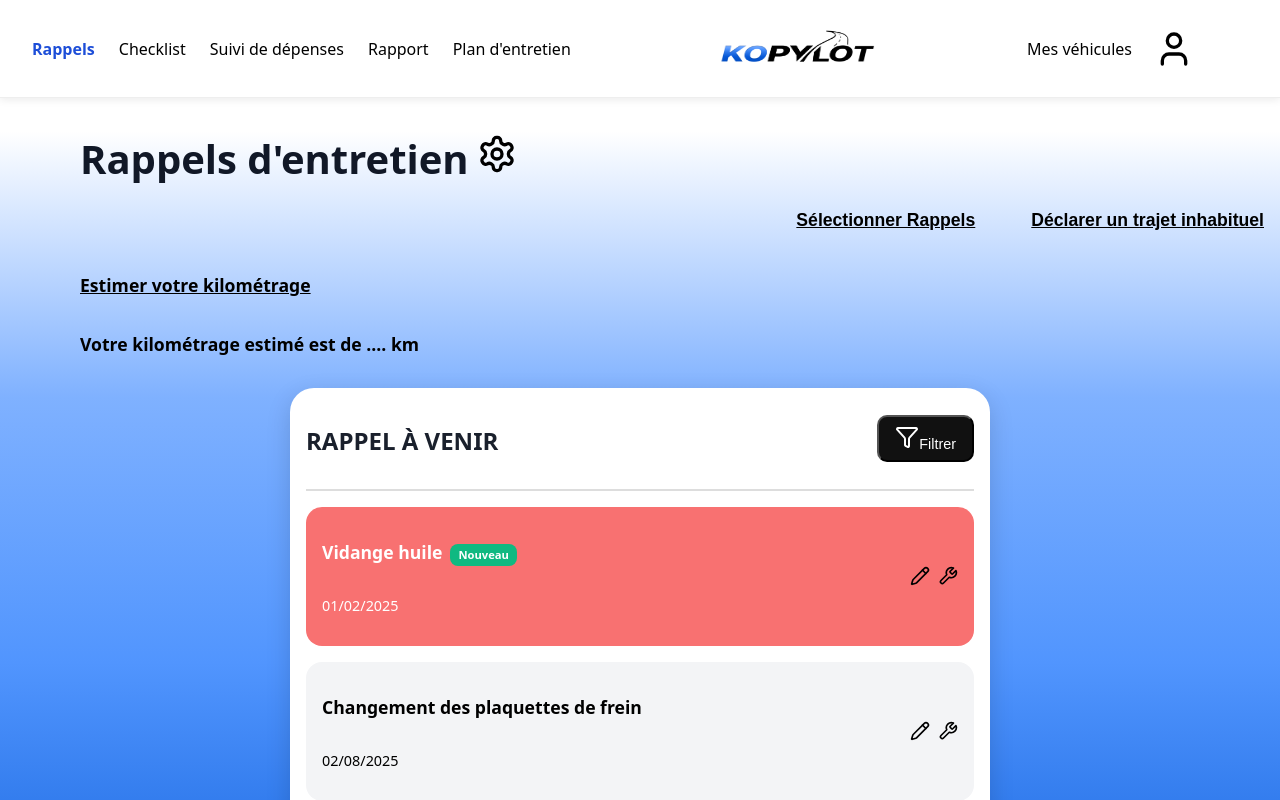
Test: RappelsPage - Couverture complète › marque un rappel comme effectué
Click the 5th icon at (948, 576), box [938,566,958,586]
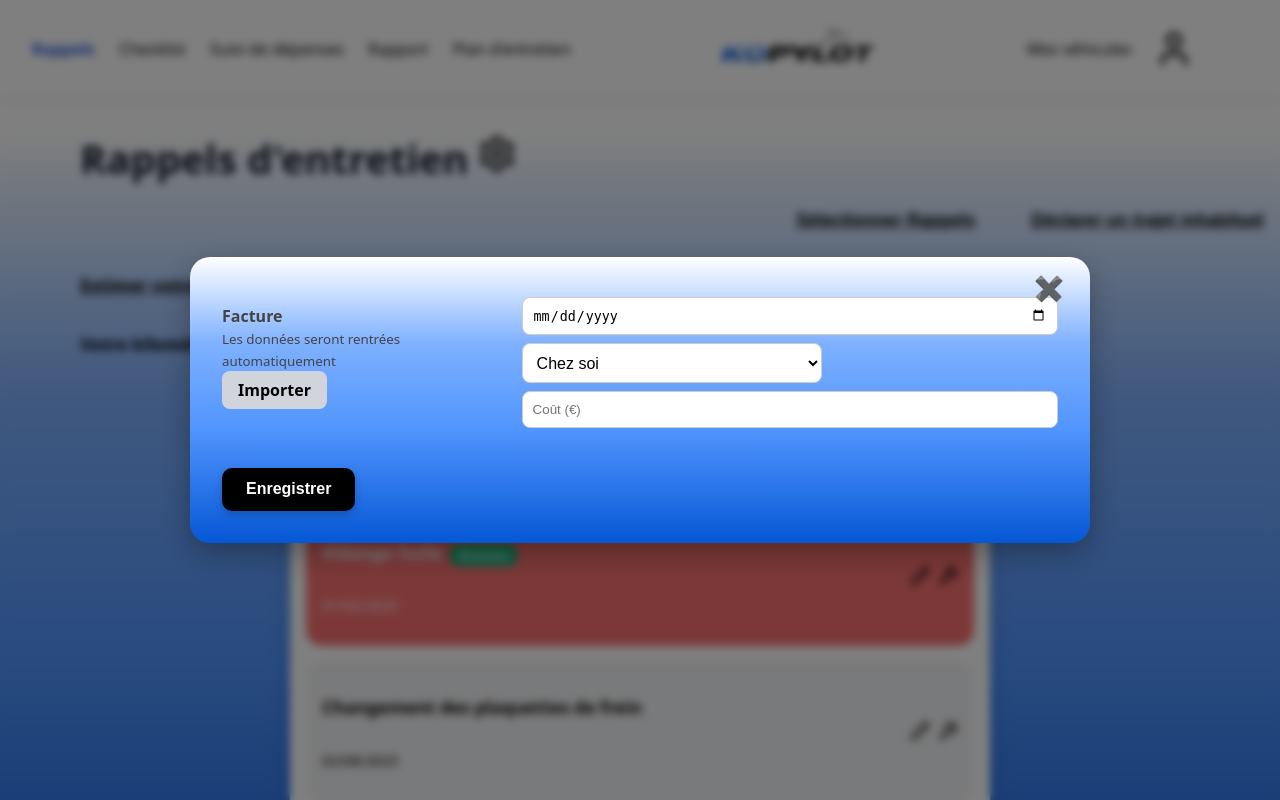
Type "2025-11-01" into the date field with placeholder "Date du dernier entretien" at (790, 317), box [522,297,1058,336]
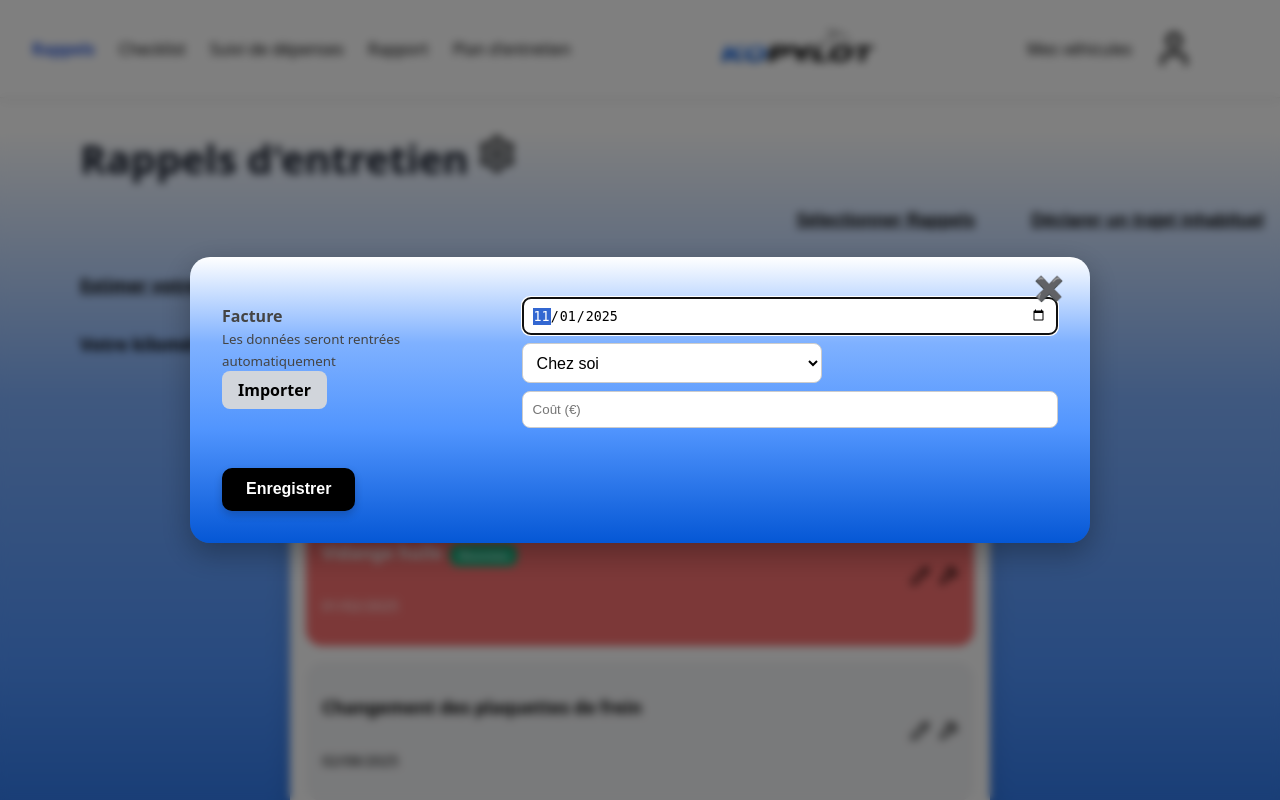
Select "Garage" in the dropdown at (672, 363), box [522,343,822,383]
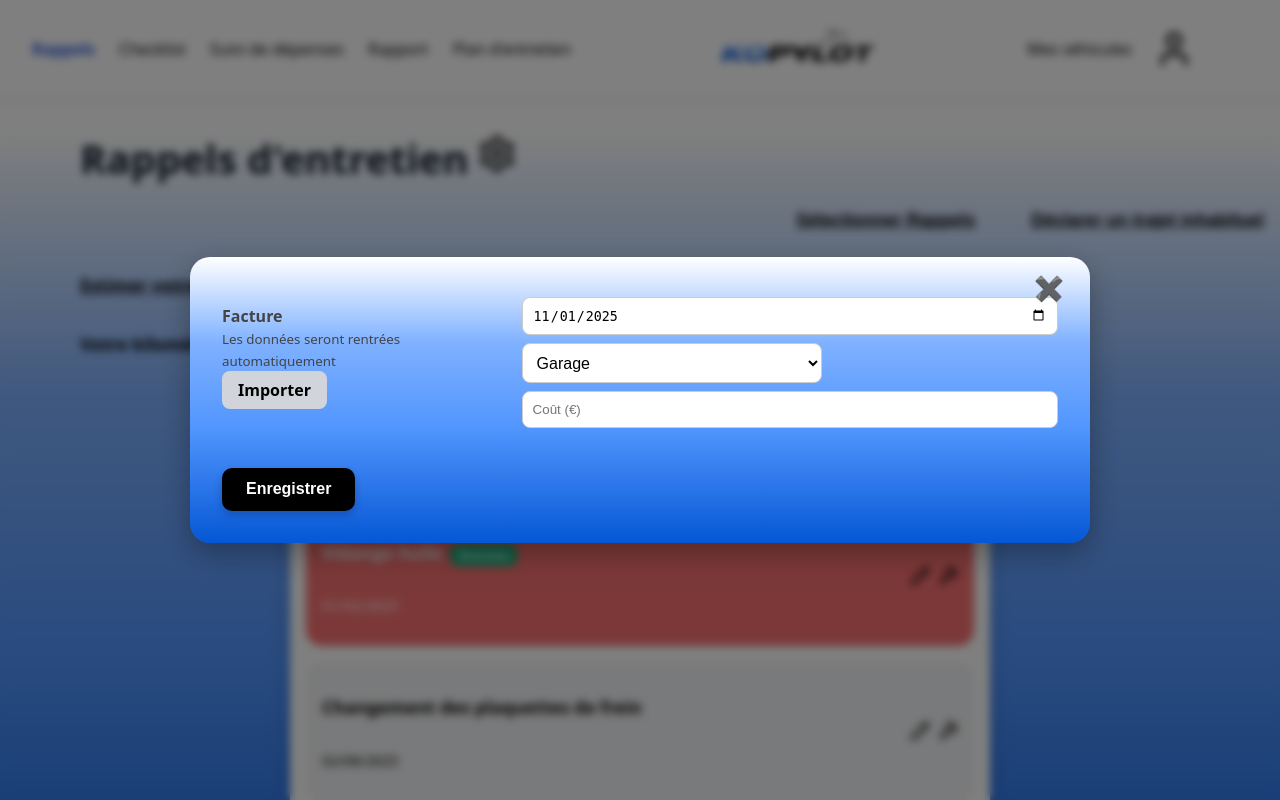
Type "90" into the field with placeholder "Coût (€)" at (790, 410), box [522,392,1058,428]
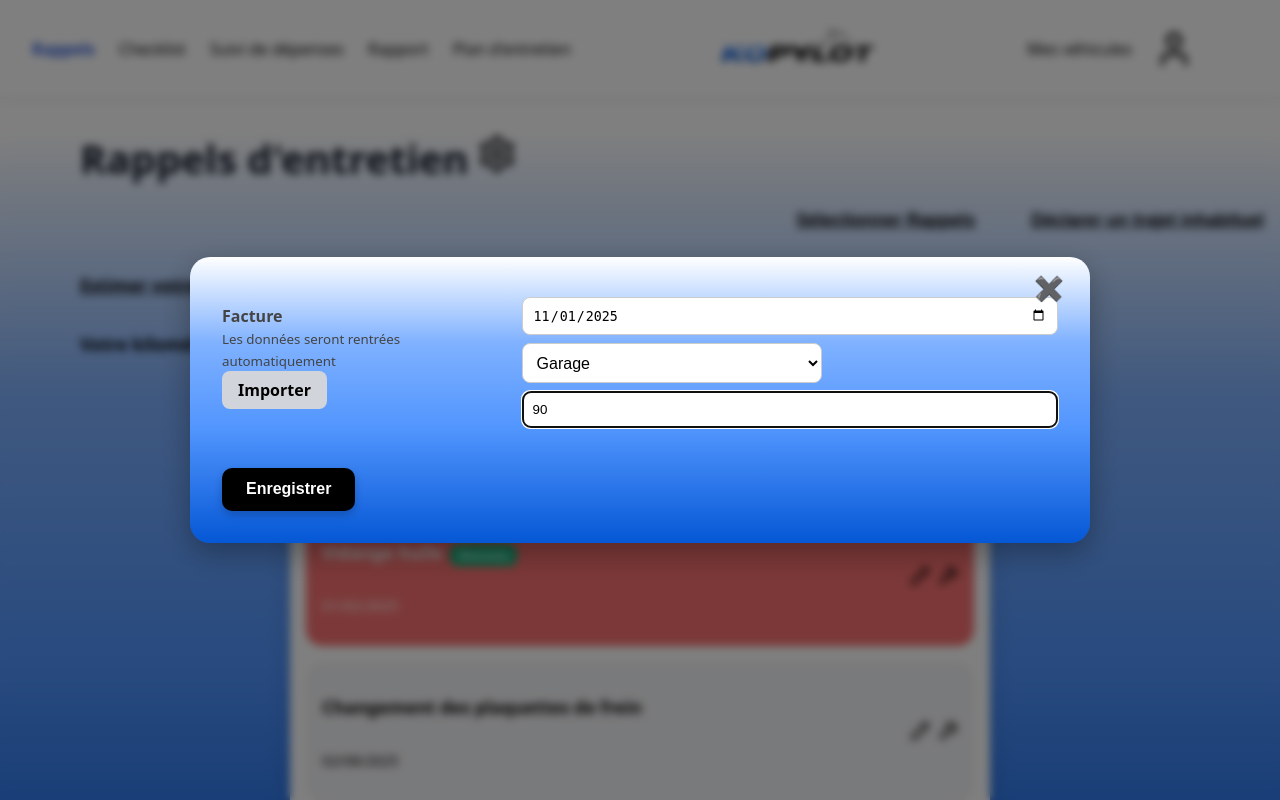
Click the button "Enregistrer" at (289, 490), box [222,468,355,512]
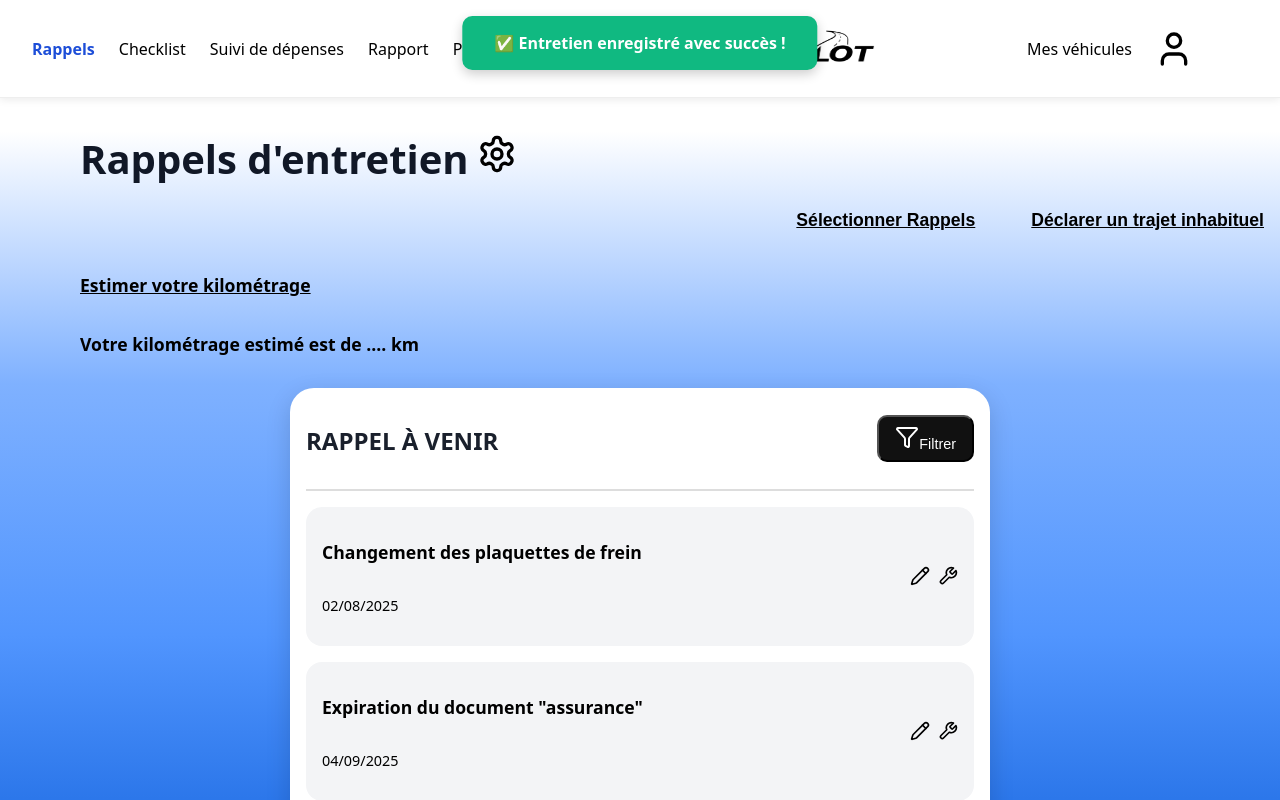
Check: the text "Entretien enregistré avec succès" is shown, box [494,32,785,54]
